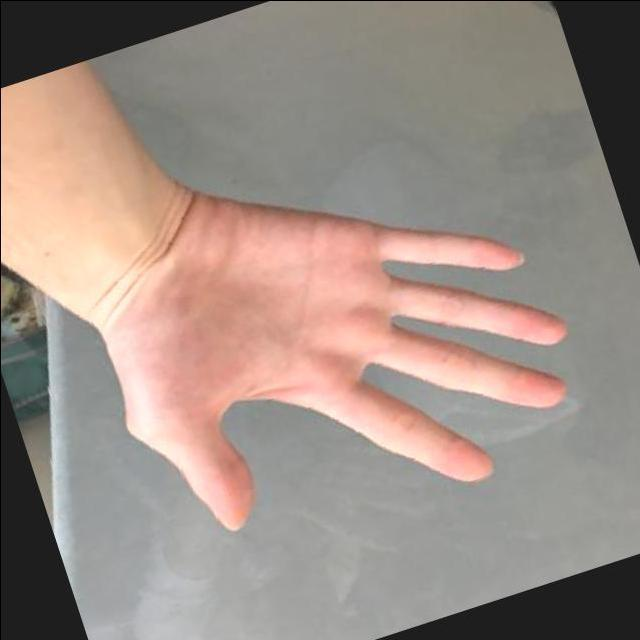hand: (46, 85, 616, 592)
